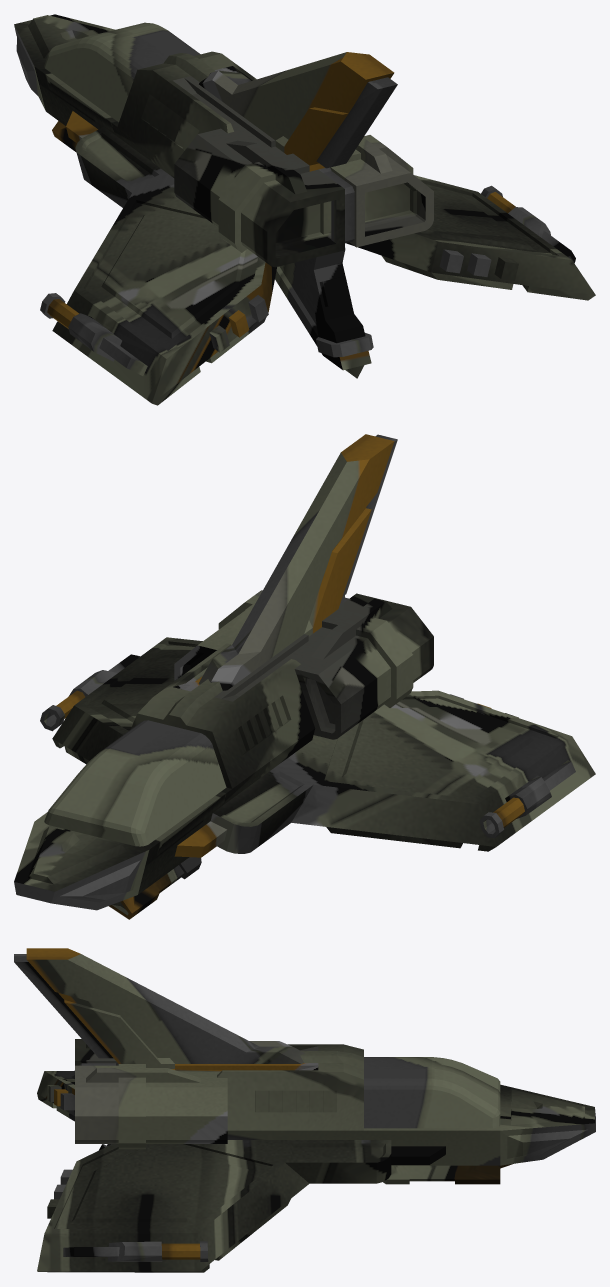
3 views of the same model, one above another, from view 1: azimuth 30°, elevation 25°; view 2: azimuth 150°, elevation 25°; view 3: azimuth 270°, elevation 25° (orthographic). The views are drawn at different scales.
Parts seen in each view (by area): view 1: Mesh_0; view 2: Mesh_0; view 3: Mesh_0.
Boxes of the visible parts, x1,y1,x2,y2 form: Mesh_0: [14, 14, 595, 405]; Mesh_0: [14, 434, 595, 919]; Mesh_0: [14, 948, 595, 1272].
Size of the model in its own units: 1.87 by 1.24 by 2.5.
Materials: 1 (1 with a texture image).
